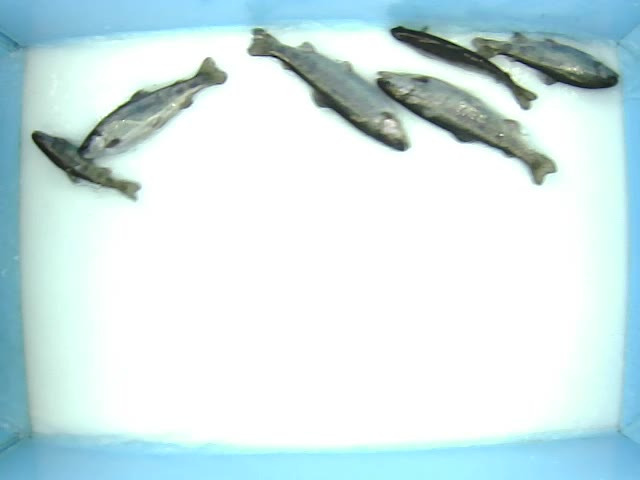fish: (242, 21, 412, 155), (374, 68, 556, 189), (75, 55, 229, 163), (386, 23, 539, 114), (461, 27, 623, 86), (30, 129, 142, 204)
